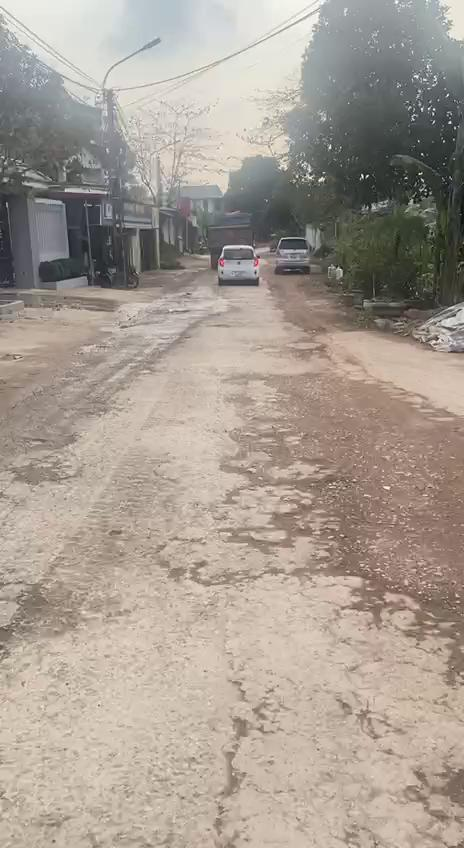pothole: (404, 598, 464, 687), (222, 504, 312, 552), (167, 556, 245, 588), (348, 573, 390, 628), (293, 474, 356, 503)
